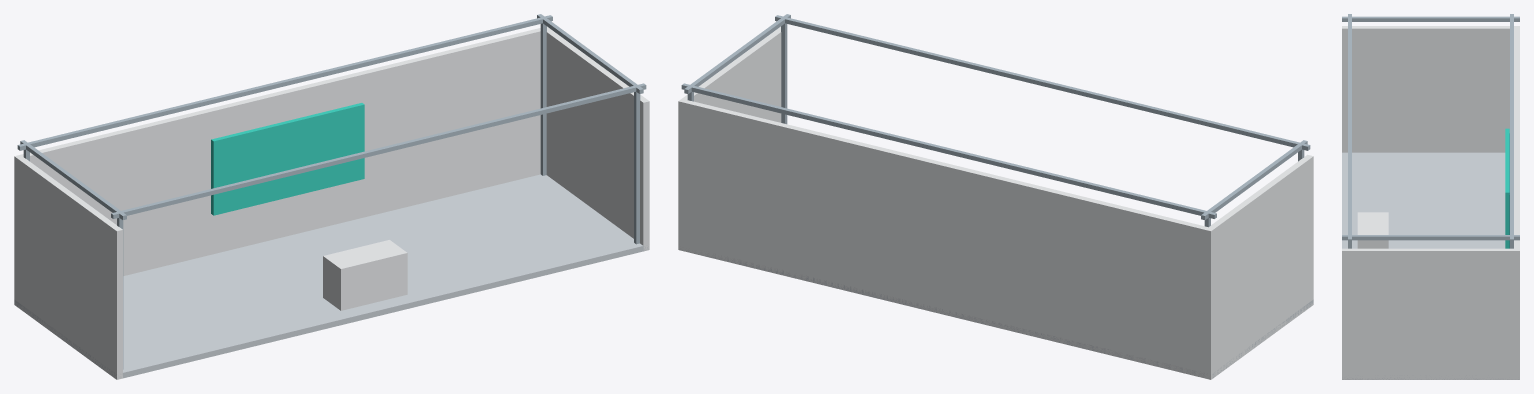
3 renders of one model, left to right at view 1: azimuth 30°, elevation 25°; view 2: azimuth 150°, elevation 25°; view 3: azimuth 270°, elevation 25°, orthographic. The views are drawn at different scales.
Visible parts, largest first — view 1: Exhibition Booth Concept; view 2: Exhibition Booth Concept; view 3: Exhibition Booth Concept.
Part boxes in pixels (<box>): Exhibition Booth Concept: <box>14,14,649,379</box>; Exhibition Booth Concept: <box>678,14,1313,379</box>; Exhibition Booth Concept: <box>1342,14,1519,379</box>.
Bounding box in the file's own units: 12 × 3.49 × 4.
